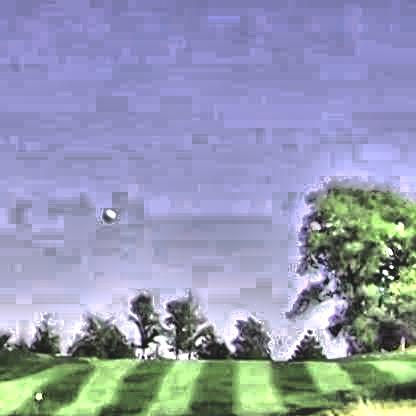golfball: (98, 207, 112, 220)
